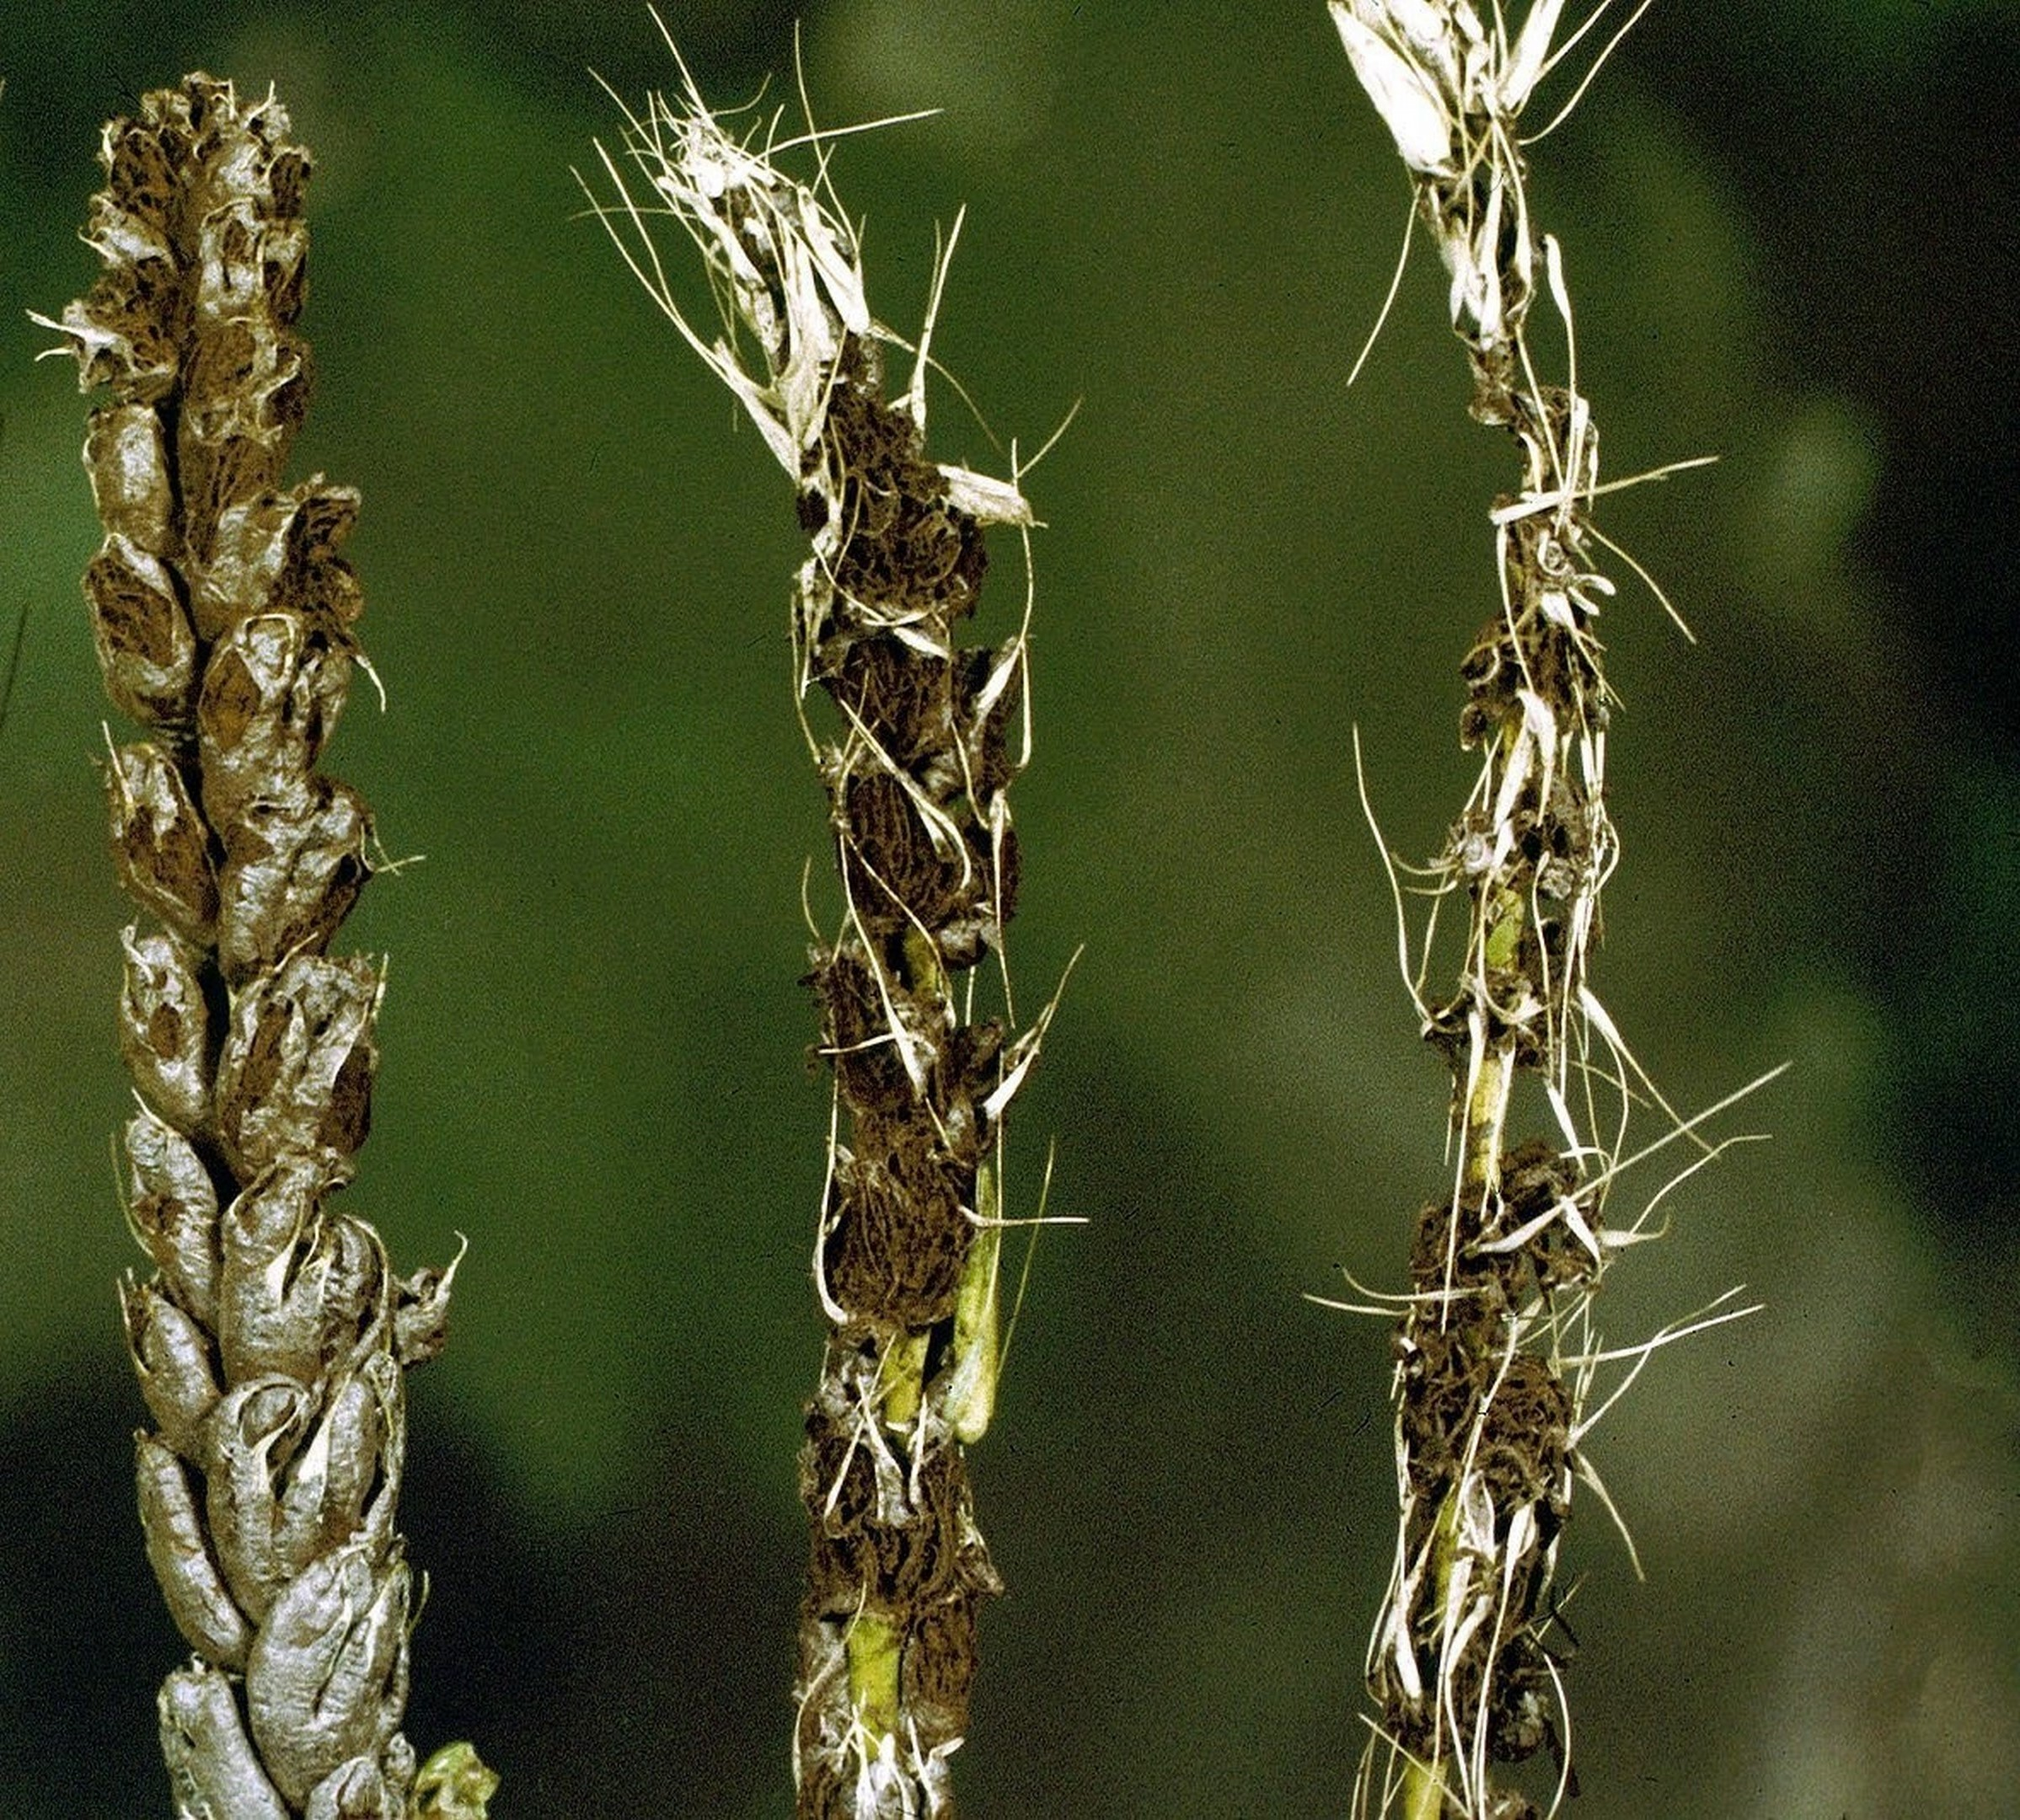Wheat Loose Smut: (7, 84, 502, 1748), (1305, 61, 1755, 1815), (636, 149, 1091, 1708)
